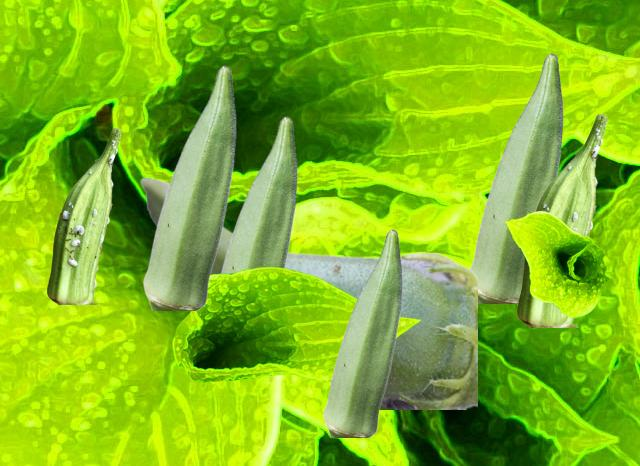okra: (139, 176, 476, 408), (470, 53, 562, 302), (143, 65, 235, 309), (517, 114, 606, 326), (323, 229, 401, 436), (47, 128, 120, 303), (220, 116, 296, 272)
